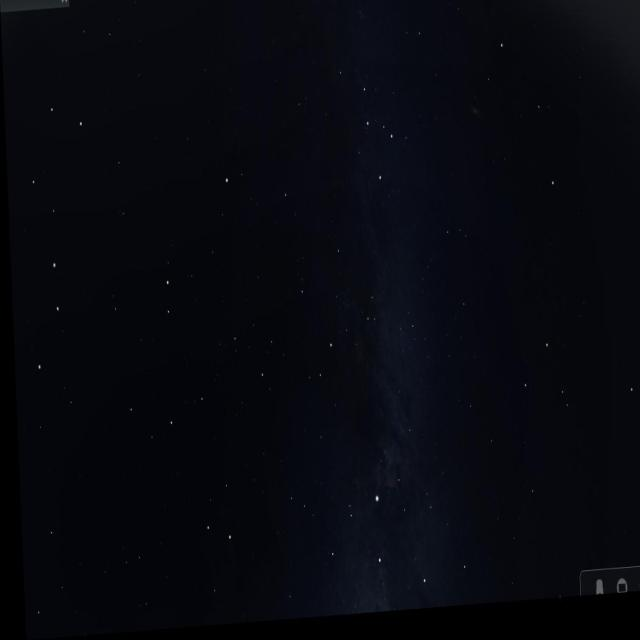cassiopeia: (331, 57, 407, 207)
cygnus: (306, 462, 431, 622)
ursa_major: (7, 89, 97, 370)
